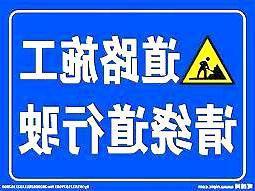sign: (7, 7, 248, 184)
